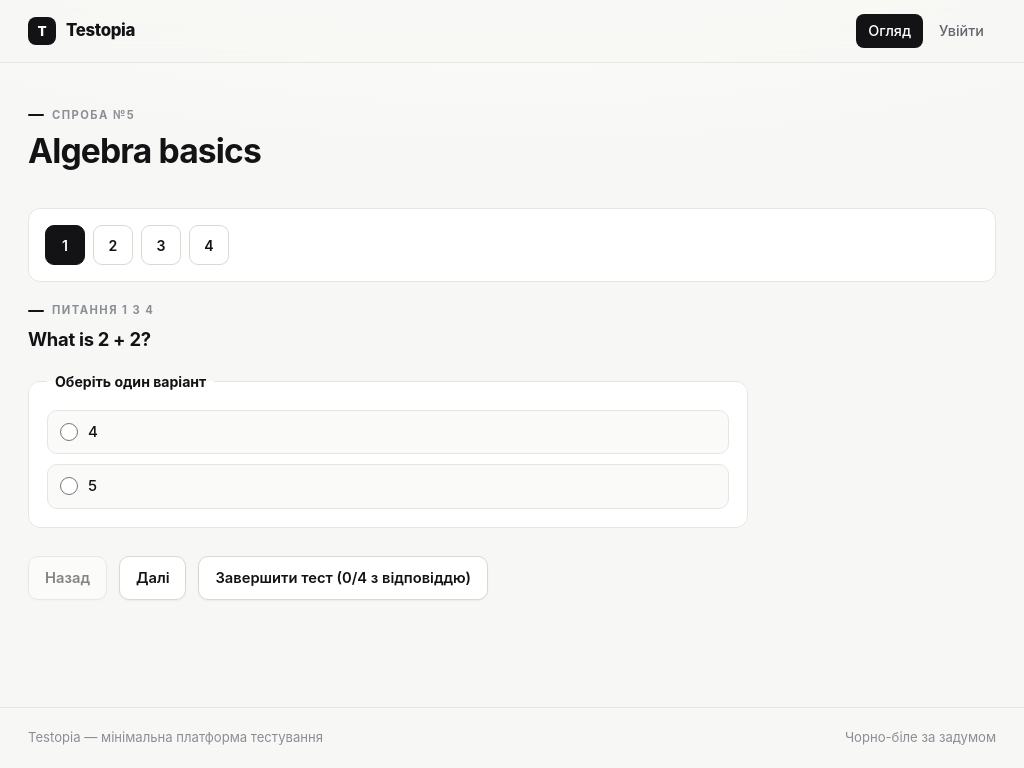
Test: TakeTestPage › renders the expired state when the server reports expiry
The width and height of the screenshot is (1024, 768).
Expected: the heading "What is 2 + 2?" is shown, [28,328,151,350]
Step 1. Click the radio button labelled "4" → x=69, y=432, box [60,423,78,441]
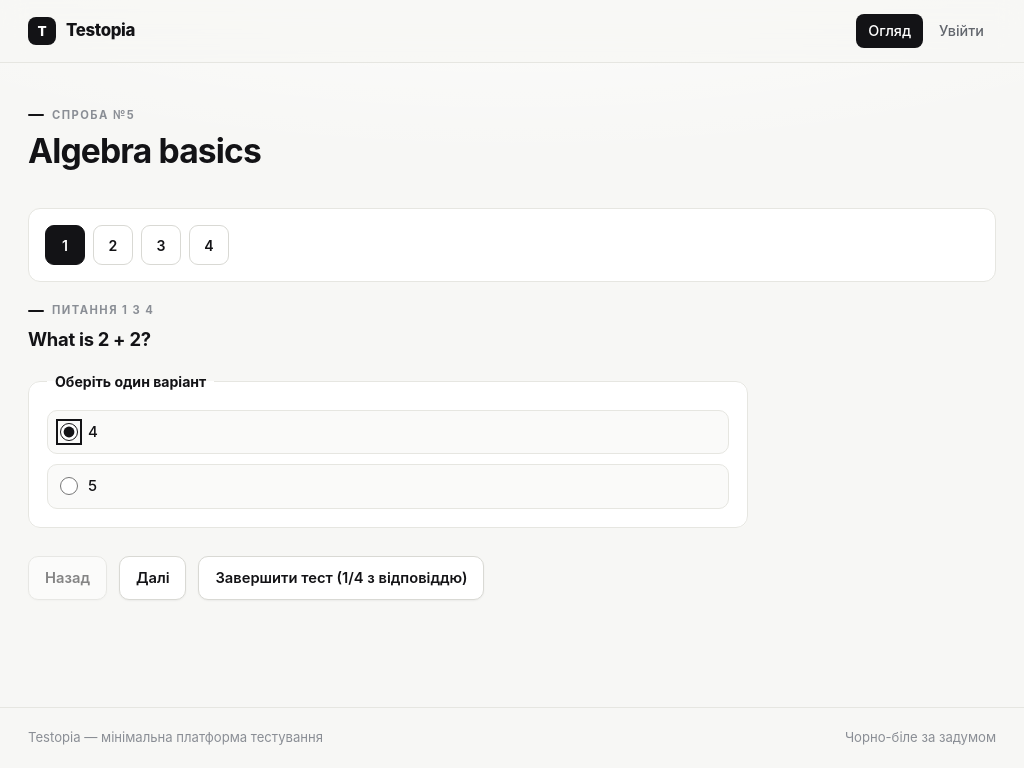
Step 2. Click the button "Завершити тест (1/4 з відповіддю)" → x=341, y=578, box [198,556,484,600]
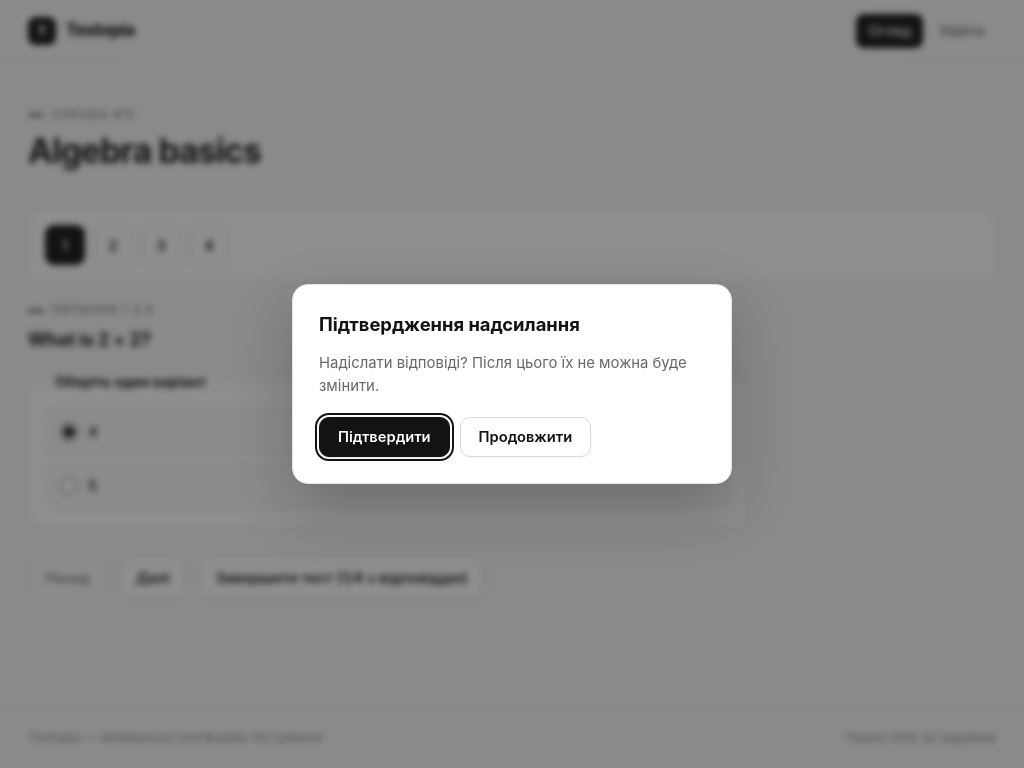
Step 3. Click the button "Підтвердити" → x=384, y=437, box [319,417,450,457]
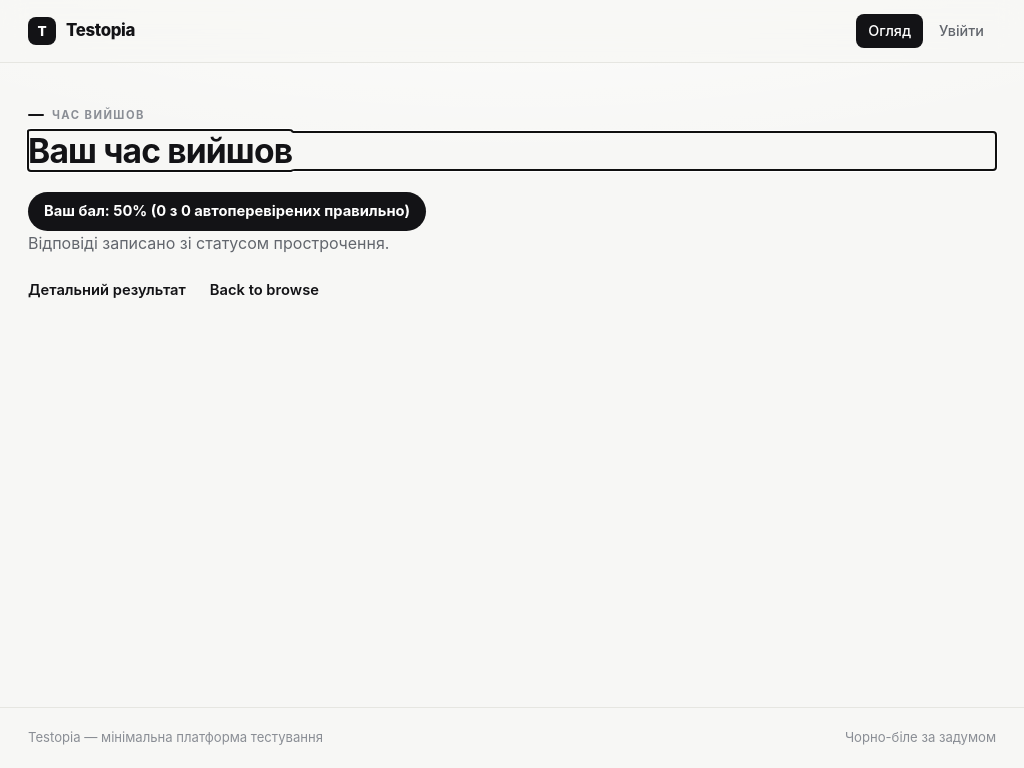
Now the heading "Ваш час вийшов" is shown, box [28,130,292,171]
